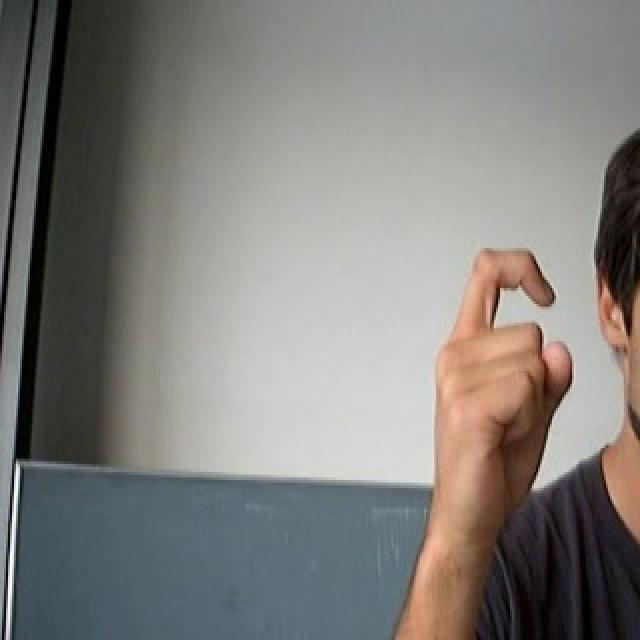X: (413, 234, 589, 550)
